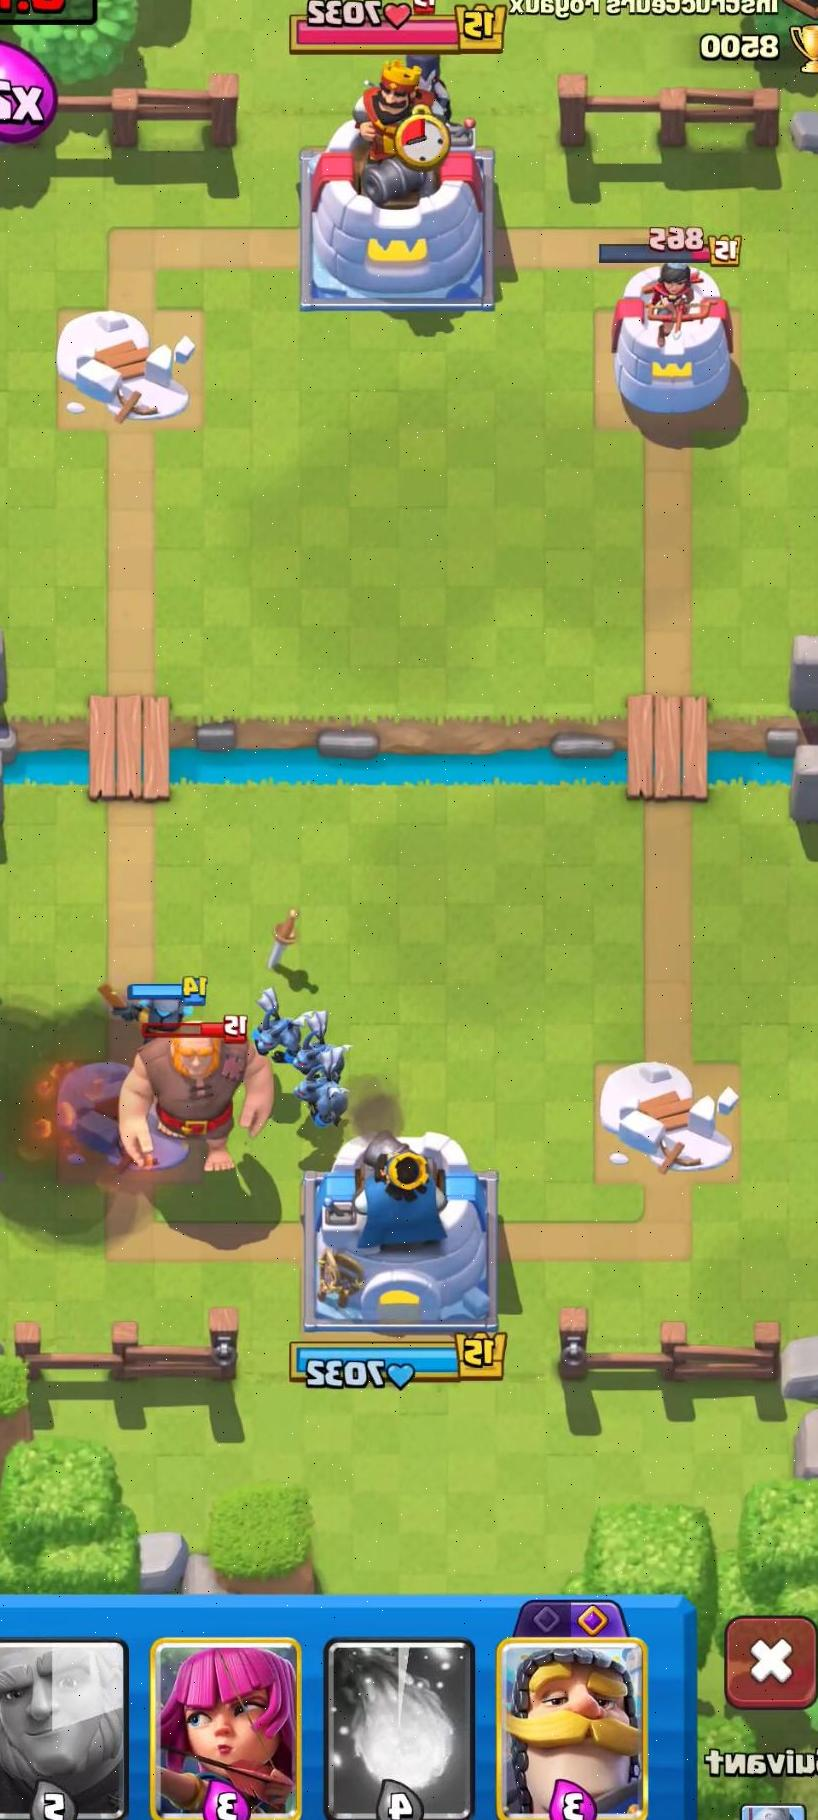enemy_giant: (118, 1010, 278, 1178)
enemy_night_witch: (404, 55, 458, 122)
player_mini_pekka: (95, 960, 218, 1029)
player_minions: (290, 1052, 354, 1126), (248, 989, 308, 1049), (279, 1014, 337, 1074)
